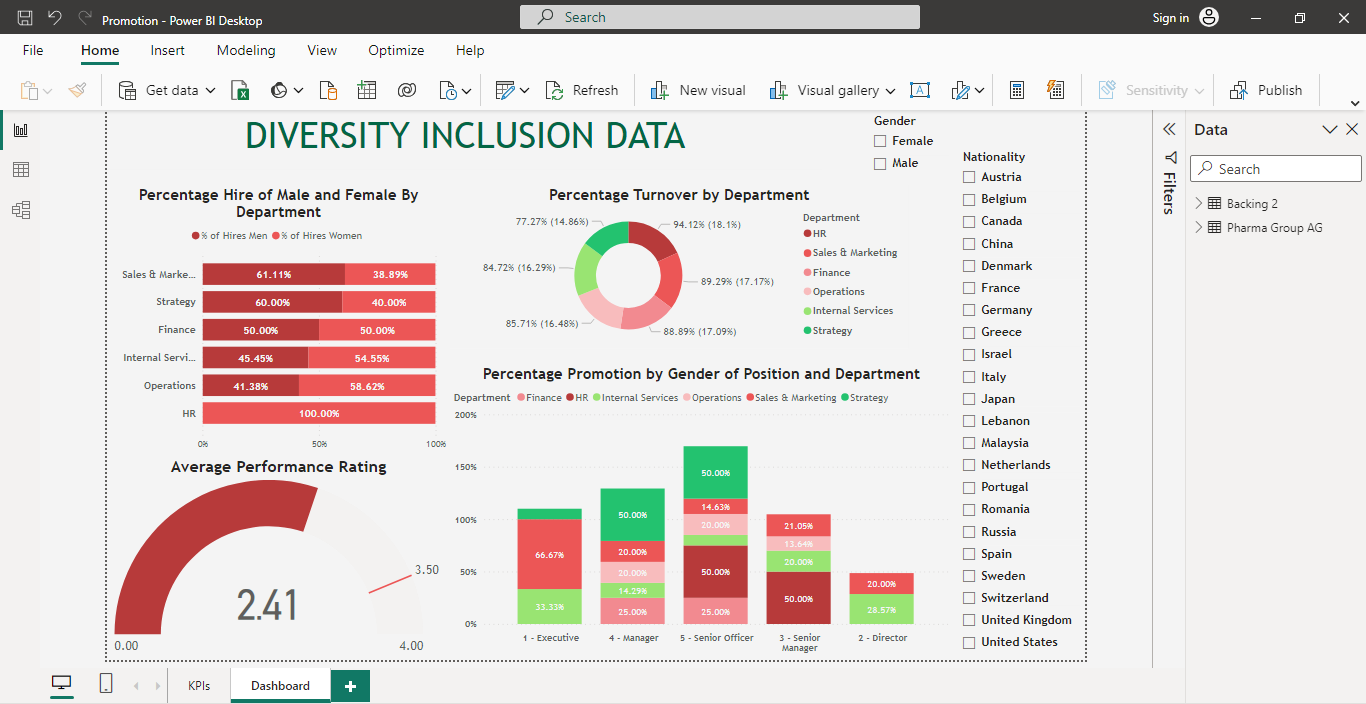

What the dashboard file says about the page in this screenshot:
{"tool":"powerbi","page":{"name":"Dashboard","canvas":[1280,720],"ordinal":1},"visuals":[{"type":"barChart","title":"Percentage Hire of Male and Female By Department","fields":{"Category":["Pharma Group AG.Department @01.07.2020"],"Y":["Pharma Group AG.% of Hires Men","Pharma Group AG.% of Hires Women"]},"box":[0,98.5,449.2,355.4],"z":0},{"type":"columnChart","title":"Percentage Promotion by Gender of  Position and Department","fields":{"Category":["Pharma Group AG.Job Level after FY21 promotions"],"Y":["Pharma Group AG.% Promoted FY21"],"Series":["Pharma Group AG.Department @01.07.2020"]},"box":[449.2,332.3,658.5,387.7],"z":1000},{"type":"gauge","title":"Average Performance Rating","fields":{"MaxValue":["Pharma Group AG.Max Perfomance"],"TargetValue":["Pharma Group AG.Target Performance"],"Y":["Pharma Group AG.Average Rating"]},"box":[0,453.8,449.2,266.2],"z":2000},{"type":"donutChart","title":"Percentage Turnover by Department ","fields":{"Y":["Pharma Group AG.% Turnover"],"Category":["Pharma Group AG.Department @01.07.2020"]},"box":[449.2,98.5,600,213.8],"z":3000},{"type":"textbox","box":[0,0,936.9,78.5],"z":4000},{"type":"slicer","fields":{"Values":["Pharma Group AG.Gender"]},"box":[990.8,0,116.9,93.8],"z":5000},{"type":"slicer","fields":{"Values":["Pharma Group AG.Nationality 1"]},"box":[1107.7,47.7,172.3,672.3],"z":6000}]}

Visuals, with their boxes on the page's 1280x720 design canvas (x1, y1, x2, y2). These are canvas units, not pixel positions in the 1366x704 screenshot, which may show the page scaled, cropped or inside an application window:
"Percentage Hire of Male and Female By Department" barChart: box(0, 98, 449, 454)
"Percentage Promotion by Gender of  Position and Department" columnChart: box(449, 332, 1108, 720)
"Average Performance Rating" gauge: box(0, 454, 449, 720)
"Percentage Turnover by Department " donutChart: box(449, 98, 1049, 312)
textbox: box(0, 0, 937, 78)
slicer - Pharma Group AG.Gender: box(991, 0, 1108, 94)
slicer - Pharma Group AG.Nationality 1: box(1108, 48, 1280, 720)
